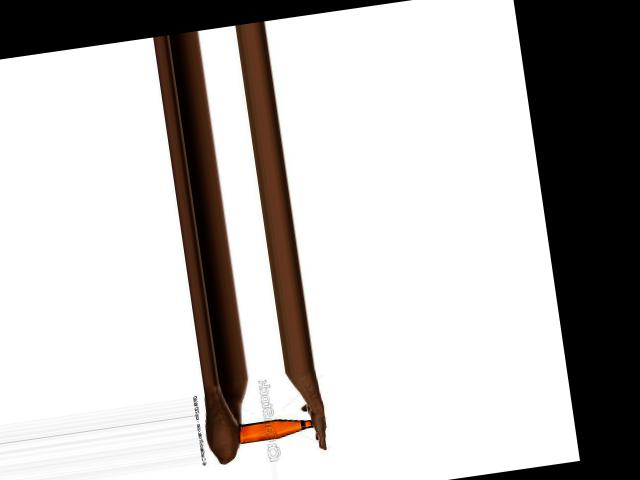beer: (237, 413, 315, 443)
